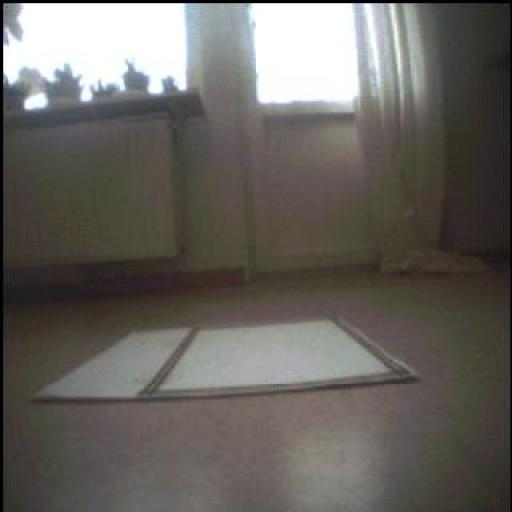Pad: (27, 317, 406, 398)
